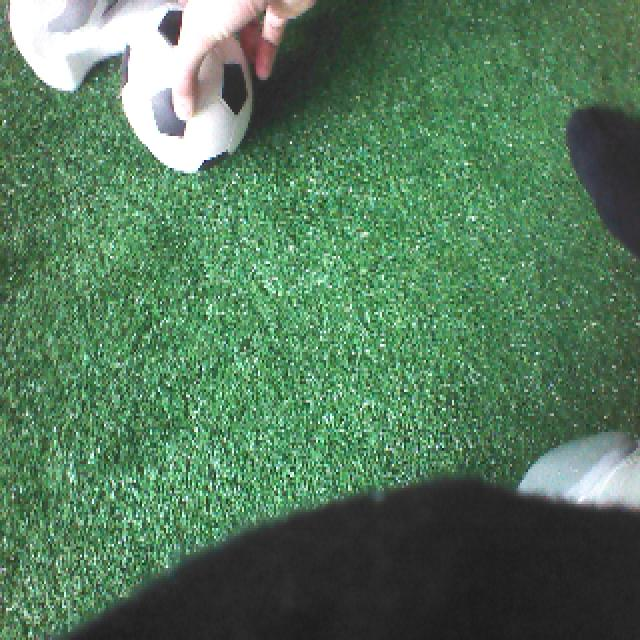ball: (118, 13, 256, 176)
